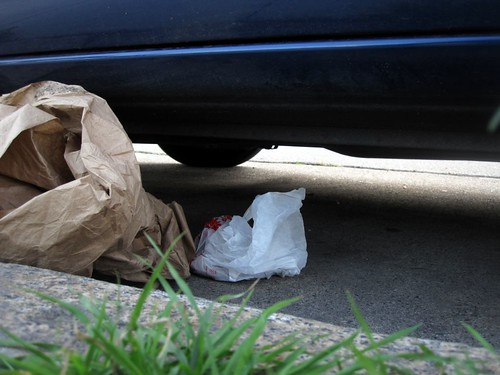trash: (1, 56, 327, 310)
